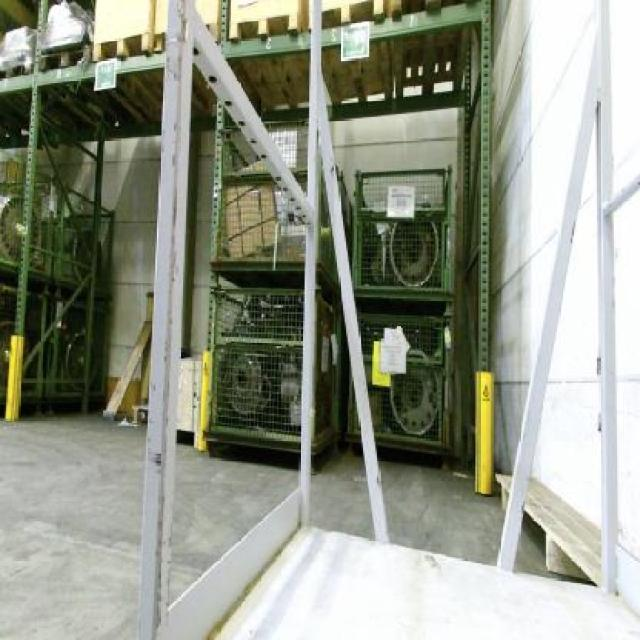pallet: (225, 7, 311, 50), (88, 16, 155, 71)
